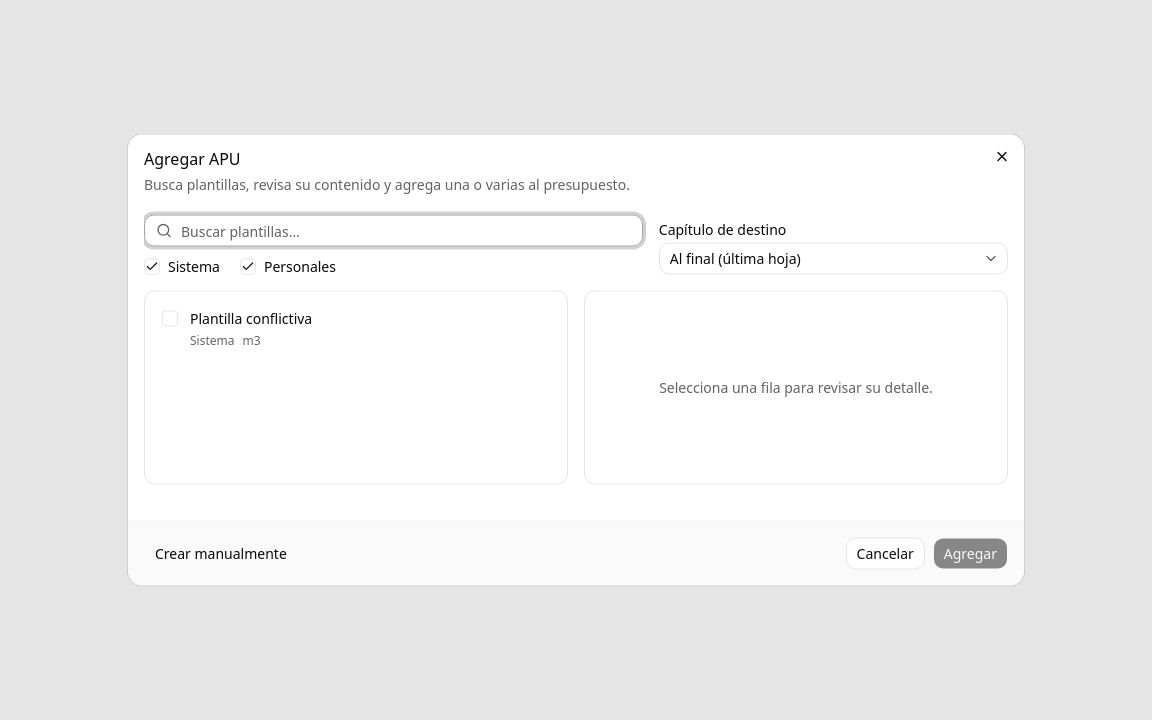
DialogoAgregarApu › mantiene diálogo y selección ante fallo atómico, y anuncia la plantilla
Click the checkbox named "Seleccionar Plantilla conflictiva" at (170, 318), box [162,310,178,326]
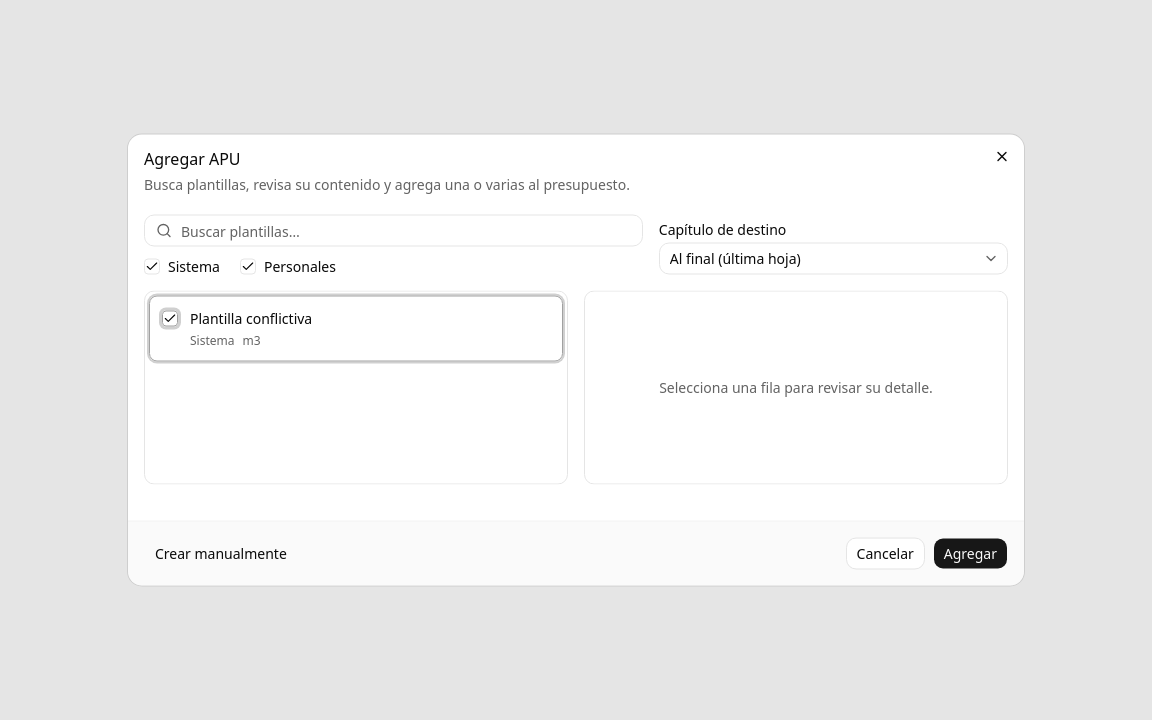
Click the button with aria-label "Agregar plantillas" at (970, 554), box [933,538,1008,570]
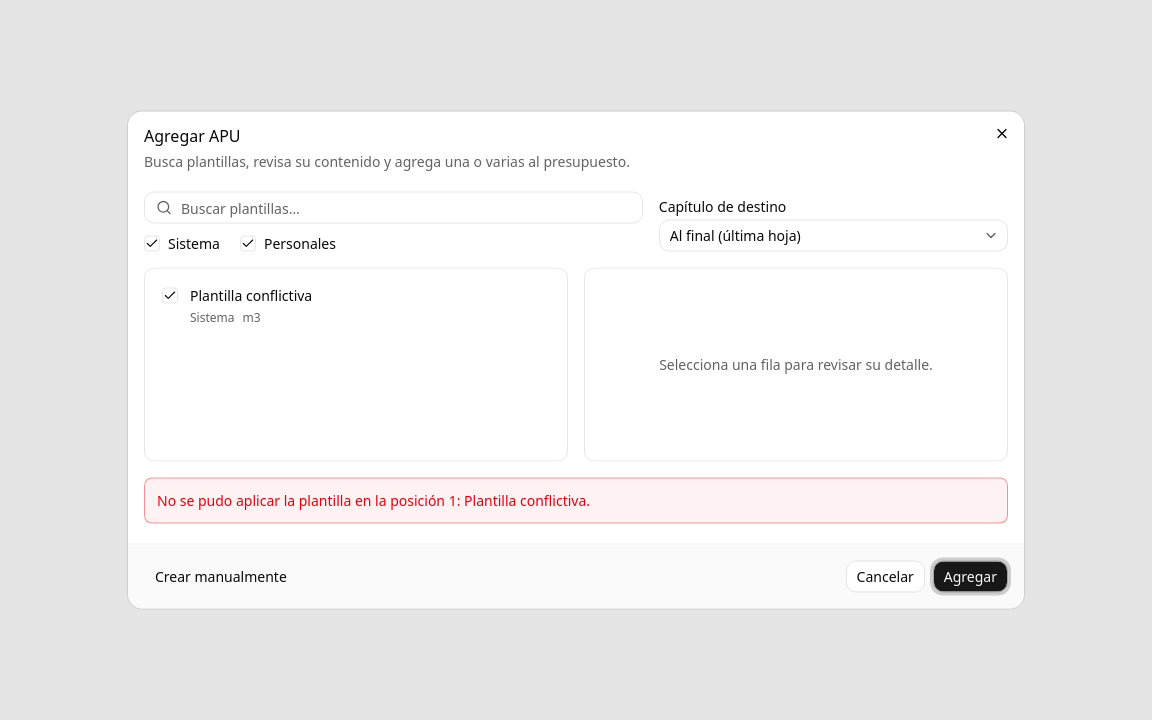
Expected: the dialog "Agregar APU" is shown, [128,112,1024,608]
Result: the checkbox named "Seleccionar Plantilla conflictiva" is checked at [162,288,178,304]
Result: the message shows "Plantilla conflictiva" at [157,490,590,510]
